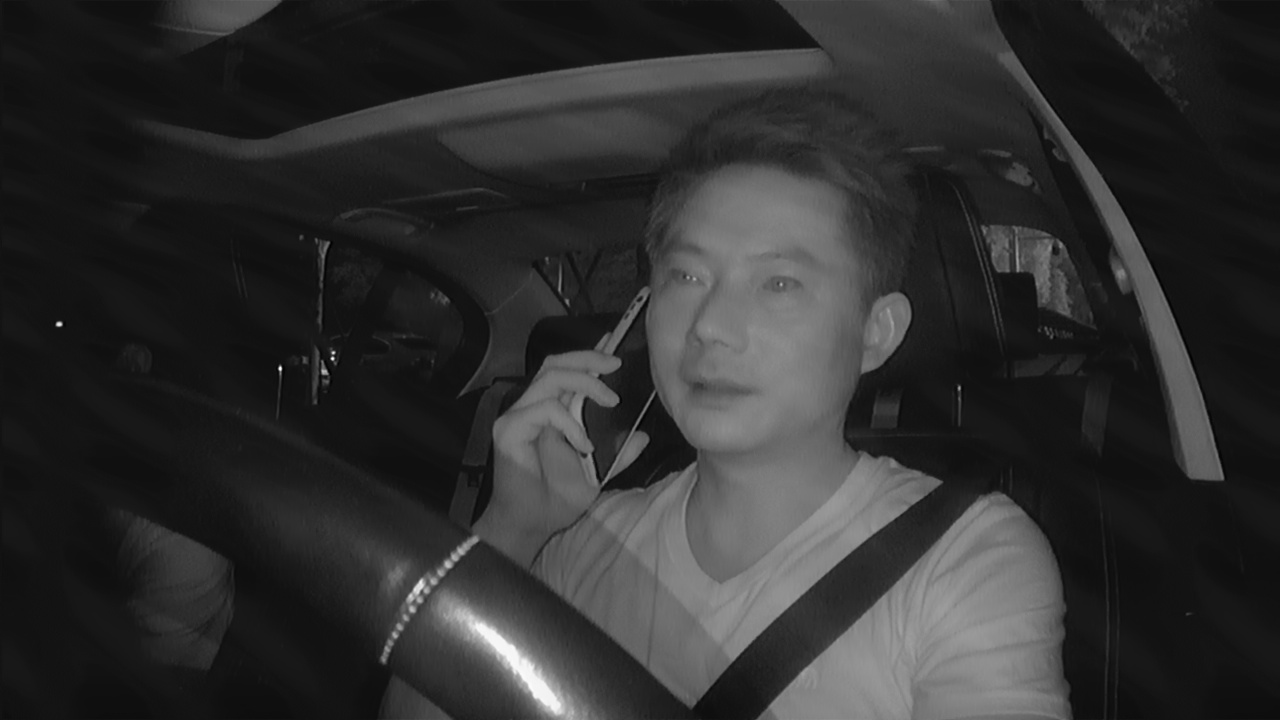hand: (479, 330, 644, 521)
